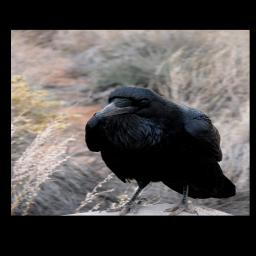Crow: (82, 85, 239, 215)
